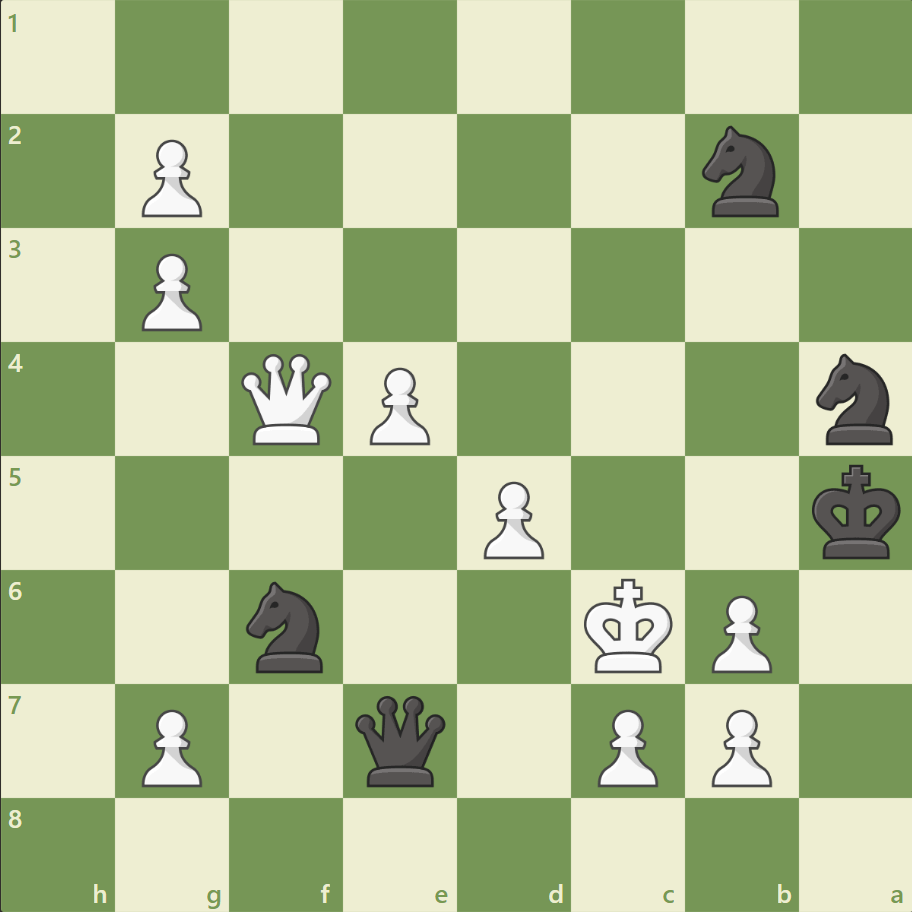K: (579, 571, 679, 679)
P: (701, 700, 776, 791), (133, 700, 208, 791), (701, 586, 776, 677), (474, 473, 549, 564), (133, 246, 208, 337), (133, 132, 208, 223), (588, 700, 662, 791), (361, 359, 435, 450)
Q: (237, 349, 336, 449)
k: (806, 458, 906, 566)
n: (238, 575, 335, 677), (806, 348, 903, 450), (692, 121, 789, 223)
q: (351, 690, 450, 789)
